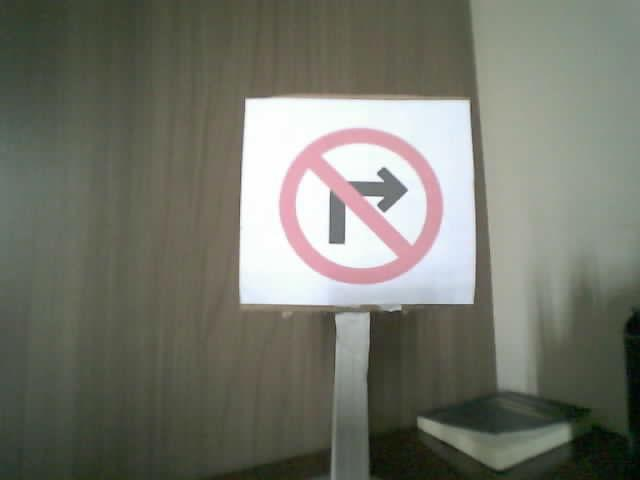R-4b_proibido-direita: (278, 126, 442, 285)
